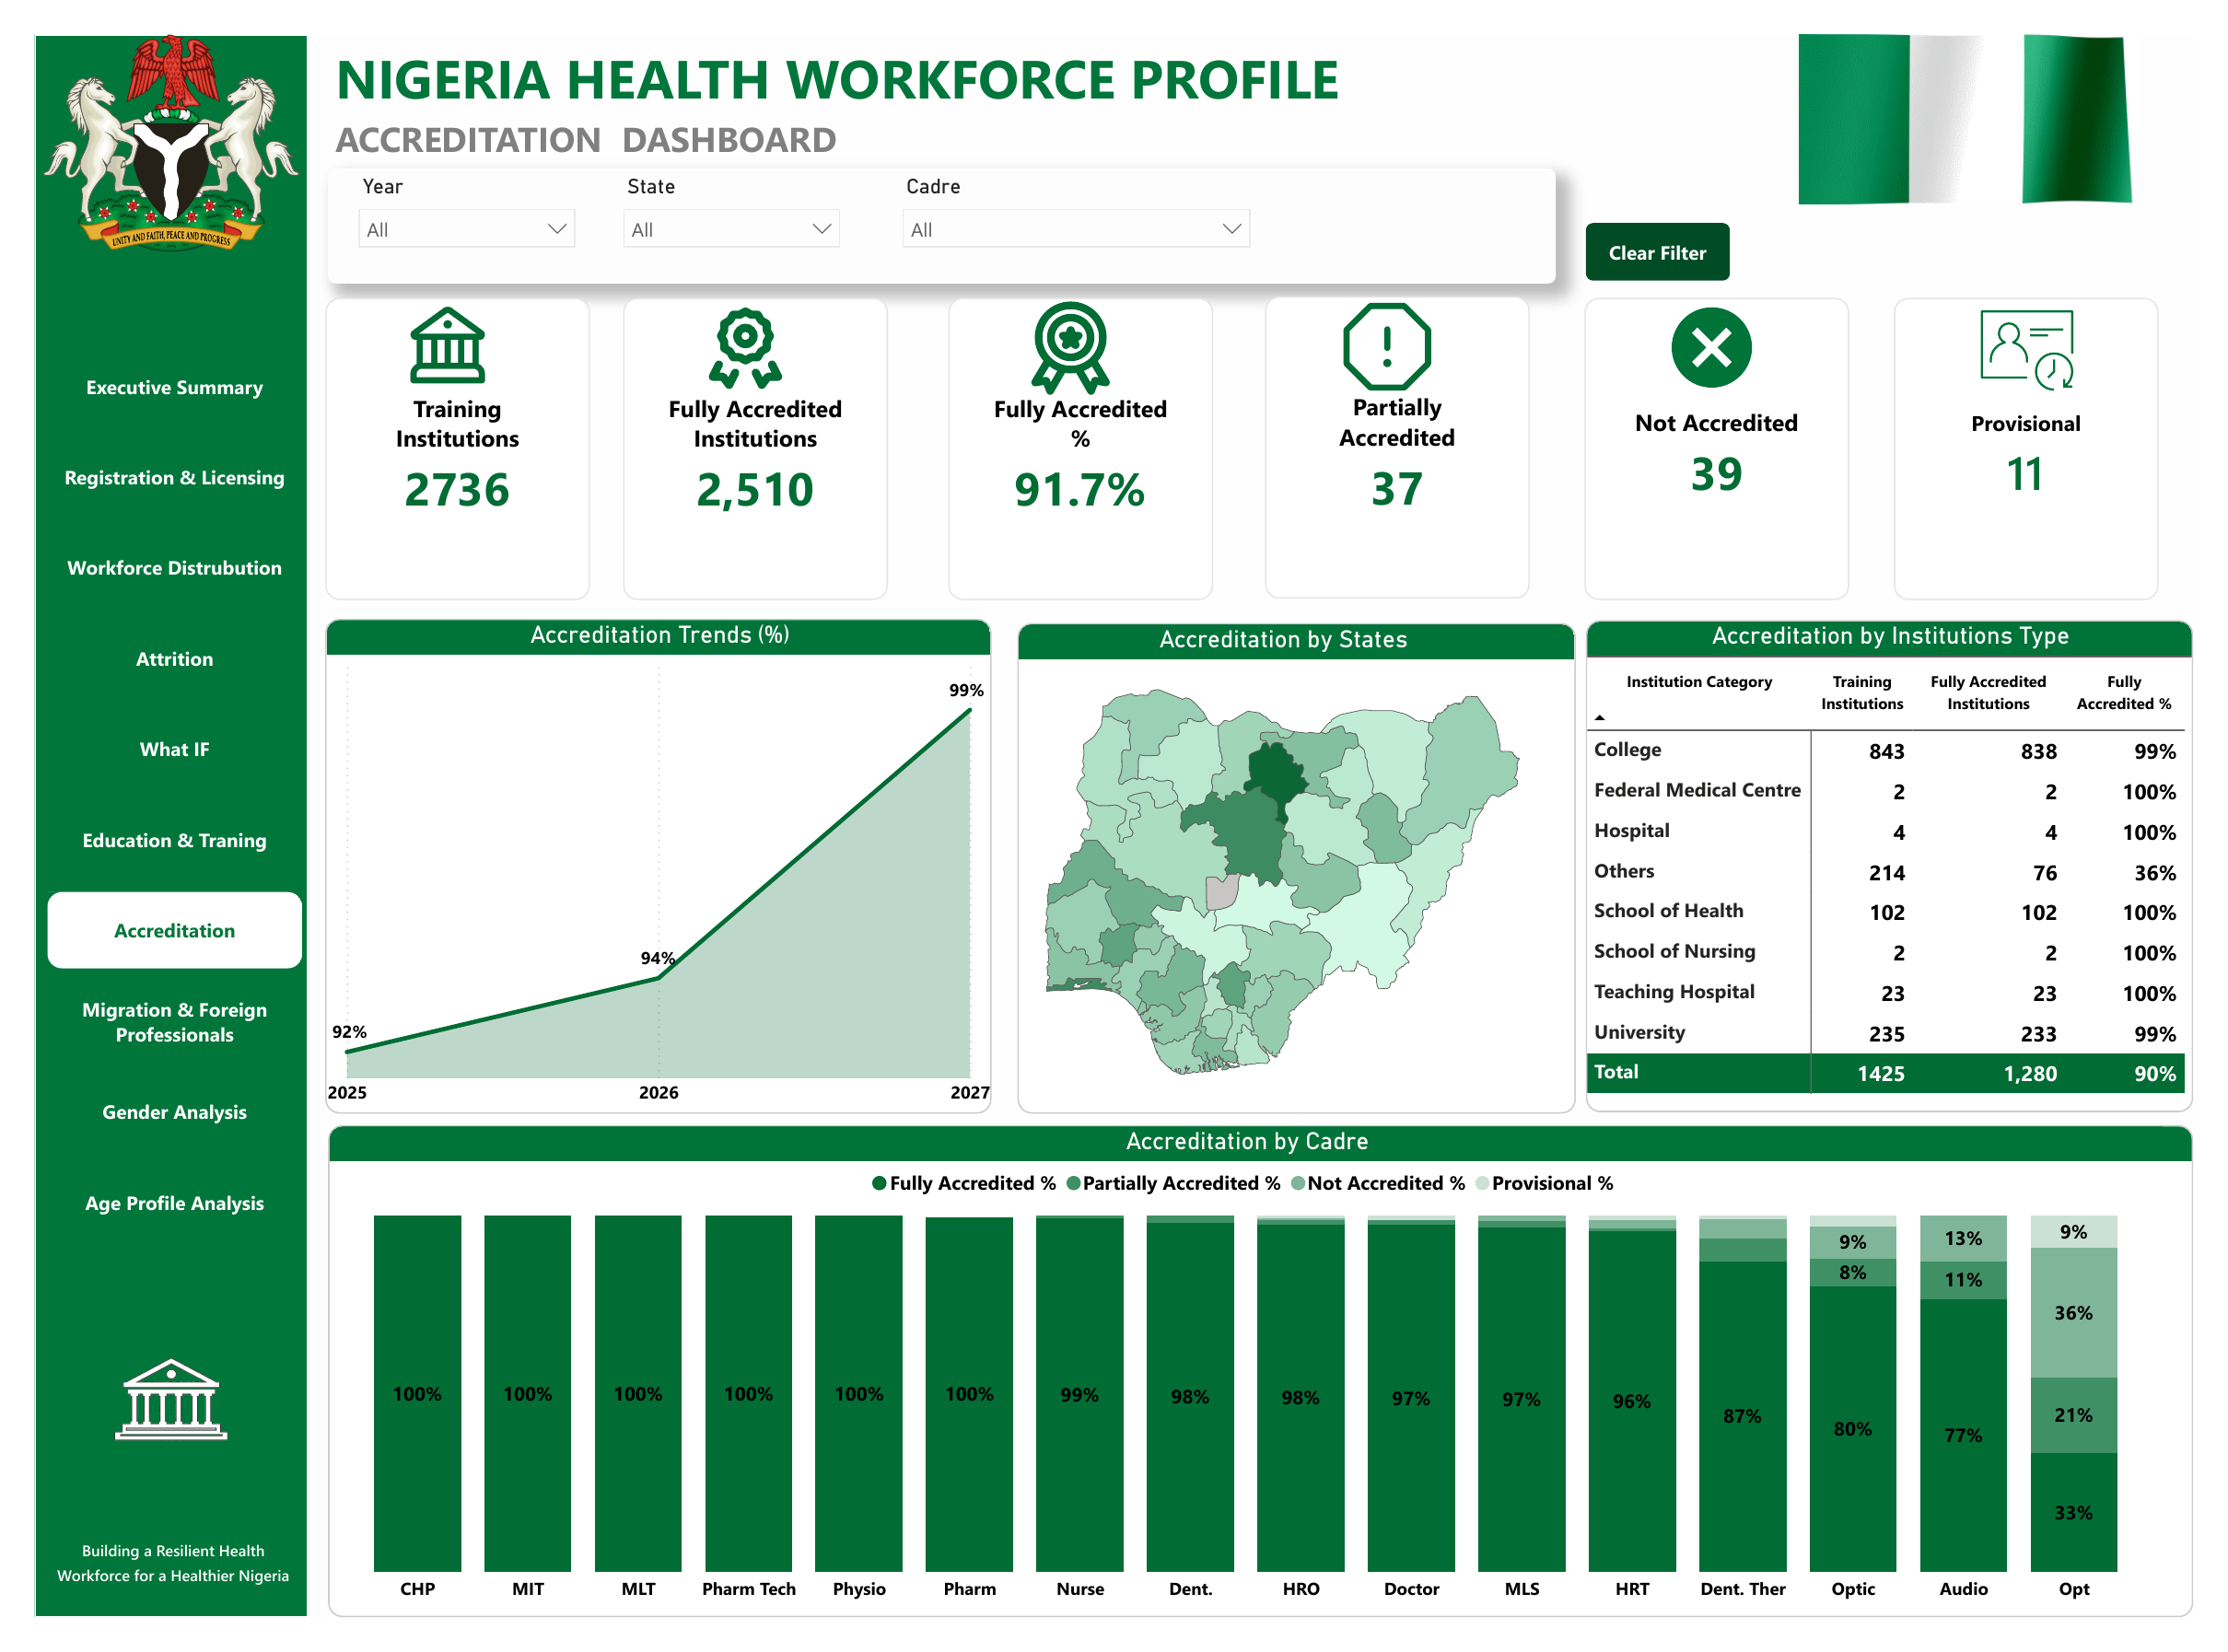

What the dashboard file says about the page in this screenshot:
{"tool":"powerbi","page":{"name":"Accreditation","canvas":[1500,1100],"ordinal":7},"visuals":[{"type":"shape","box":[0,0,1499.5,1100],"z":0},{"type":"shape","box":[0,0,190,1100],"z":1000},{"type":"image","box":[0,880,190,152],"z":2000},{"type":"textbox","box":[6,1039,184,61],"z":3000},{"type":"image","box":[0,0,189.9,151.3],"z":4000},{"type":"textbox","box":[204.2,0,729.9,75.2],"z":5000},{"type":"textbox","box":[204,51,530,58],"z":6000},{"type":"shape","box":[204.2,93.1,852.5,79.7],"z":7000},{"type":"slicer","fields":{"Values":["Dim Year.Year"]},"box":[214.9,93.1,171,58.2],"z":8000},{"type":"slicer","fields":{"Values":["Dim State.State"]},"box":[398.5,93.1,171,58.2],"z":9000},{"type":"slicer","fields":{"Values":["Dim Cadre.Cadre"]},"box":[592.8,93.1,262.4,58.2],"z":10000},{"type":"actionButton","box":[1078,131,100,40],"z":11000},{"type":"group","id":"g1","title":"Group 1","box":[202,183,184,210],"z":12000},{"type":"group","id":"g2","title":"Group 1","box":[1291.5,183.3,184.7,209.3],"z":13000},{"type":"shape","box":[855.1,182,184,210],"z":14000,"group":"g5"},{"type":"shape","box":[202,183,184,210],"z":14000,"group":"g1"},{"type":"shape","box":[409.1,183.3,184,210],"z":14000,"group":"g3"},{"type":"shape","box":[634.8,183.3,184,210],"z":14000,"group":"g4"},{"type":"shape","box":[1076.7,183.3,184,210],"z":14000,"group":"g6"},{"type":"shape","box":[1291.5,183.3,184,210],"z":14000,"group":"g2"},{"type":"columnChart","title":"Accreditation by Cadre ","fields":{"Category":["Dim Cadre.Cadre Abb"],"Y":["DAX.Fully Accredited %","DAX.Partially Accredited %","DAX.Not Accredited %","DAX.Provisional %"]},"box":[203.9,758,1295.6,342],"z":16000},{"type":"lineChart","title":"Accreditation Trends (%)","fields":{"Category":["Dim Year.Year"],"Y":["DAX.Fully Accredited %"]},"box":[202.5,406.3,462.4,343.4],"z":17000},{"type":"group","id":"g3","title":"Group 1","box":[409.1,183.3,183.3,210.7],"z":18000},{"type":"group","id":"g4","title":"Group 1","box":[634.8,183.3,183.3,210.7],"z":19000},{"type":"group","id":"g5","title":"Group 1","box":[855.1,182,183.3,210.7],"z":20000},{"type":"group","id":"g6","title":"Group 1","box":[1076.7,183.3,183.3,209.3],"z":21000},{"type":"shapeMap","title":"Accreditation by States","fields":{"Category":["Dim State.State"],"Value":["DAX.Fully Accredited Institutions"]},"box":[682.7,409.1,388.6,340.7],"z":22000},{"type":"pivotTable","title":"Accreditation by Institutions Type","fields":{"Rows":["Fact Accreditation.Institution Category"],"Values":["DAX.Training Institutions","DAX.Fully Accredited Institutions","DAX.Fully Accredited %"]},"box":[1078,407.3,422.2,341.9],"z":23000},{"type":"image","box":[1187.6,0,311.9,117.7],"z":24000},{"type":"pageNavigator","box":[9.1,218.2,177.3,621.8],"z":25000},{"type":"cardVisual","fields":{"Data":["DAX.Partially Accredited"]},"box":[855.1,230,184,122],"z":28000,"group":"g5"},{"type":"cardVisual","fields":{"Data":["DAX.Training Institutions"]},"box":[202,231,184,122],"z":28000,"group":"g1"},{"type":"cardVisual","fields":{"Data":["DAX.Fully Accredited Institutions"]},"box":[409.1,231.3,184,122],"z":28000,"group":"g3"},{"type":"cardVisual","fields":{"Data":["DAX.Fully Accredited %"]},"box":[634.8,231.3,184,122],"z":28000,"group":"g4"},{"type":"cardVisual","fields":{"Data":["DAX.Not Accredited"]},"box":[1076.7,231.3,184,122],"z":28000,"group":"g6"},{"type":"cardVisual","fields":{"Data":["DAX.Provisional"]},"box":[1291.5,231.3,184,122],"z":28000,"group":"g2"},{"type":"image","box":[903.1,183,73,68],"z":29000,"group":"g5"},{"type":"image","box":[250,184,73,68],"z":29000,"group":"g1"},{"type":"image","box":[457.1,184.3,73,68],"z":29000,"group":"g3"},{"type":"image","box":[682.8,184.3,73,68],"z":29000,"group":"g4"},{"type":"image","box":[1128.7,184.7,72.5,67],"z":29000,"group":"g6"},{"type":"image","box":[1347.6,184.7,72.5,67],"z":29000,"group":"g2"}]}

Visuals, with their boxes on the page's 1500x1100 design canvas (x1, y1, x2, y2). These are canvas units, not pixel positions in the 2228x1652 screenshot, which may show the page scaled, cropped or inside an application window:
shape: box(0, 0, 1500, 1100)
shape: box(0, 0, 190, 1100)
image: box(0, 880, 190, 1032)
textbox: box(6, 1039, 190, 1100)
image: box(0, 0, 190, 151)
textbox: box(204, 0, 934, 75)
textbox: box(204, 51, 734, 109)
shape: box(204, 93, 1057, 173)
slicer - Dim Year.Year: box(215, 93, 386, 151)
slicer - Dim State.State: box(398, 93, 570, 151)
slicer - Dim Cadre.Cadre: box(593, 93, 855, 151)
actionButton: box(1078, 131, 1178, 171)
"Group 1" group: box(202, 183, 386, 393)
"Group 1" group: box(1292, 183, 1476, 393)
shape: box(855, 182, 1039, 392)
shape: box(202, 183, 386, 393)
shape: box(409, 183, 593, 393)
shape: box(635, 183, 819, 393)
shape: box(1077, 183, 1261, 393)
shape: box(1292, 183, 1476, 393)
"Accreditation by Cadre " columnChart: box(204, 758, 1500, 1100)
"Accreditation Trends (%)" lineChart: box(202, 406, 665, 750)
"Group 1" group: box(409, 183, 592, 394)
"Group 1" group: box(635, 183, 818, 394)
"Group 1" group: box(855, 182, 1038, 393)
"Group 1" group: box(1077, 183, 1260, 393)
"Accreditation by States" shapeMap: box(683, 409, 1071, 750)
"Accreditation by Institutions Type" pivotTable: box(1078, 407, 1500, 749)
image: box(1188, 0, 1500, 118)
pageNavigator: box(9, 218, 186, 840)
cardVisual - DAX.Partially Accredited: box(855, 230, 1039, 352)
cardVisual - DAX.Training Institutions: box(202, 231, 386, 353)
cardVisual - DAX.Fully Accredited Institutions: box(409, 231, 593, 353)
cardVisual - DAX.Fully Accredited %: box(635, 231, 819, 353)
cardVisual - DAX.Not Accredited: box(1077, 231, 1261, 353)
cardVisual - DAX.Provisional: box(1292, 231, 1476, 353)
image: box(903, 183, 976, 251)
image: box(250, 184, 323, 252)
image: box(457, 184, 530, 252)
image: box(683, 184, 756, 252)
image: box(1129, 185, 1201, 252)
image: box(1348, 185, 1420, 252)
